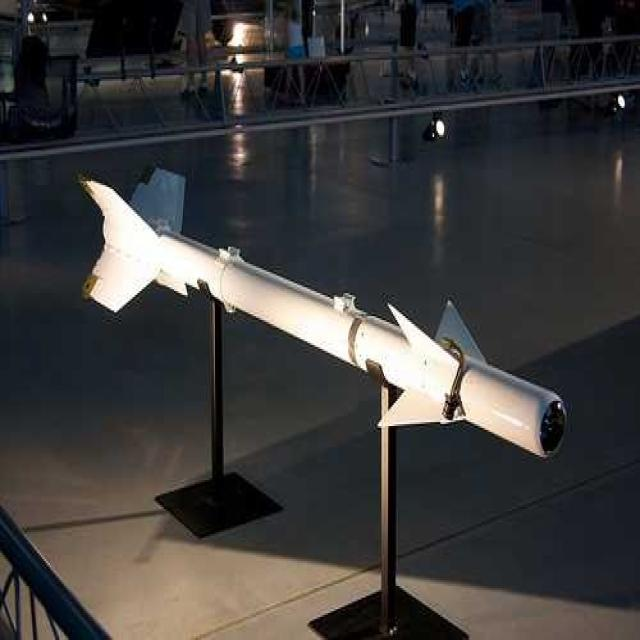missile: (67, 160, 568, 461)
